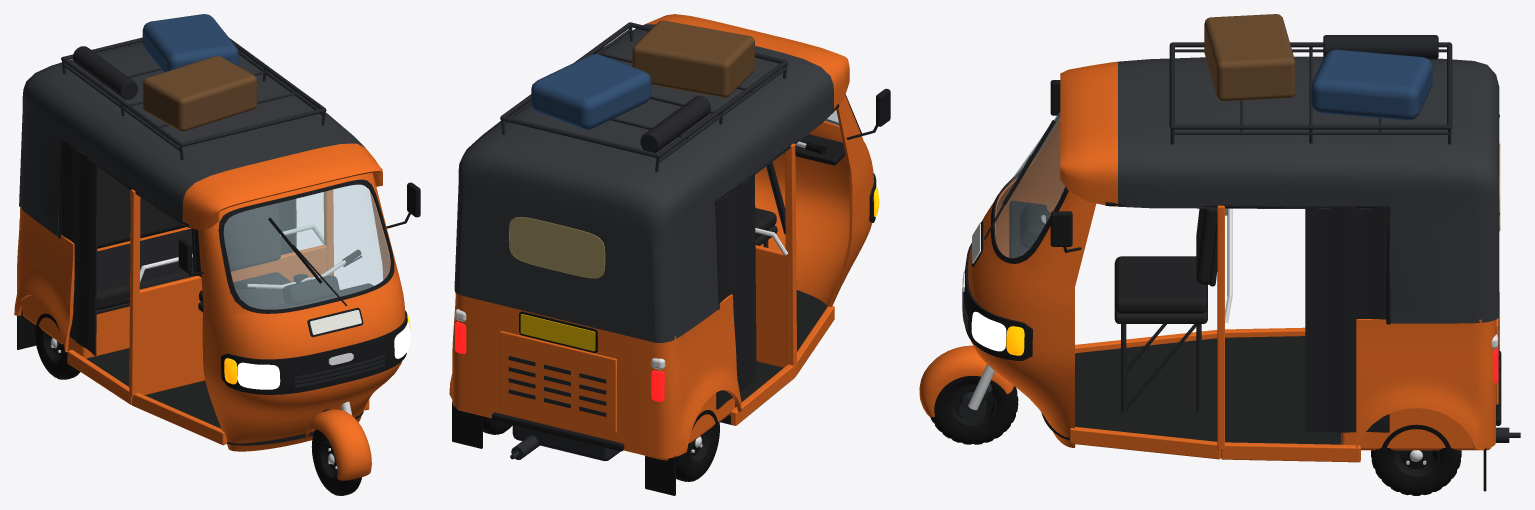
File: bajaj_orange.glb
3 views of the same model, side by side, from view 1: azimuth 30°, elevation 25°; view 2: azimuth 150°, elevation 25°; view 3: azimuth 270°, elevation 25° (orthographic). The views are drawn at different scales.
Visible parts, largest first — view 1: Body, Steering, Wheel_F, Wheel_RL, Plate_Front; view 2: Body, Wheel_RL, Plate_Rear, Steering; view 3: Body, Wheel_RR, Wheel_F, Steering.
Part boxes in pixels (left/top/right/bottom): Body: left=14, top=14, right=420, bottom=451; Steering: left=233, top=249, right=371, bottom=480; Wheel_F: left=311, top=429, right=361, bottom=495; Wheel_RL: left=34, top=313, right=80, bottom=379; Plate_Front: left=309, top=310, right=361, bottom=334; Body: left=449, top=14, right=890, bottom=495; Wheel_RL: left=676, top=410, right=719, bottom=481; Plate_Rear: left=520, top=314, right=595, bottom=351; Steering: left=766, top=141, right=826, bottom=234; Body: left=962, top=14, right=1520, bottom=491; Wheel_RR: left=1371, top=424, right=1461, bottom=495; Wheel_F: left=930, top=375, right=1018, bottom=444; Steering: left=919, top=188, right=1064, bottom=422.
Size of the model in its own units: 1.43 by 1.96 by 2.71.
